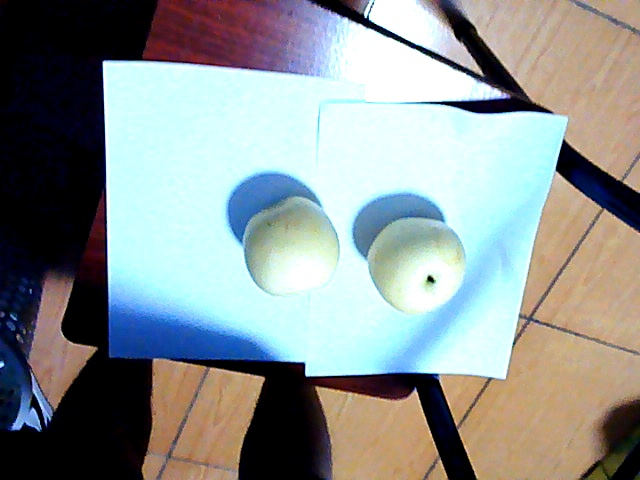pear: (242, 194, 342, 294), (370, 216, 466, 316)
